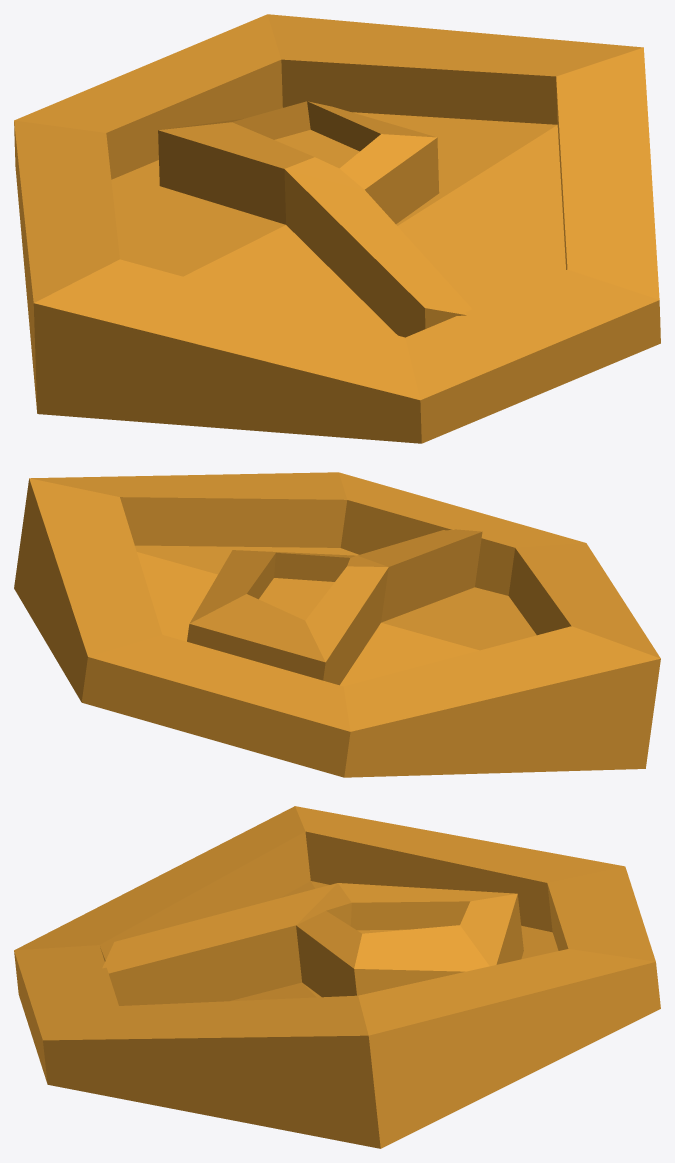
File: Coin.fbx
The picture shows the model from 3 angles, top to bottom: view 1: azimuth 30°, elevation 25°; view 2: azimuth 150°, elevation 25°; view 3: azimuth 270°, elevation 25°; orthographic projection. The views are drawn at different scales.
Visible parts, largest first — view 1: Coin; view 2: Coin; view 3: Coin.
Boxes of the visible parts, left/top/right/bottom form: Coin: left=14, top=14, right=660, bottom=443; Coin: left=14, top=472, right=660, bottom=777; Coin: left=14, top=806, right=660, bottom=1148.
Bounding box in the file's own units: 78.33 × 21.08 × 72.21.
